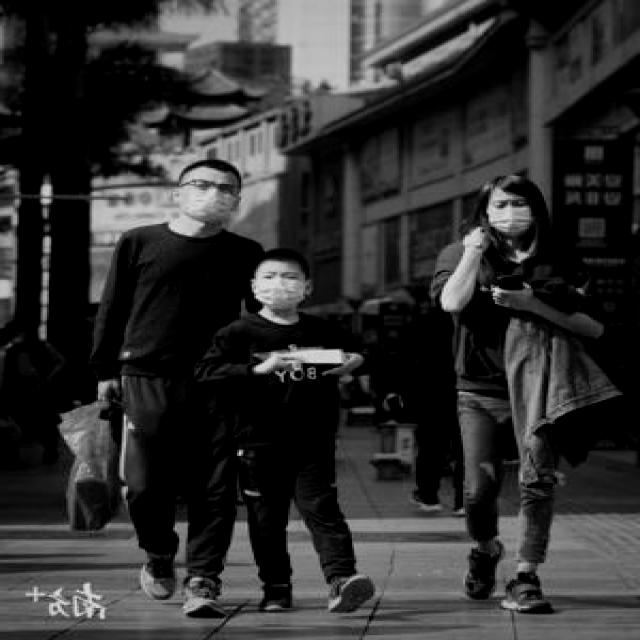face_mask: (179, 178, 241, 222), (254, 269, 307, 309), (488, 197, 538, 237)
hand_noglove: (320, 346, 367, 380), (87, 374, 128, 408), (492, 284, 534, 310), (460, 220, 494, 252), (261, 349, 302, 374)
head_nohelmet: (256, 242, 309, 268), (476, 170, 533, 192), (185, 156, 248, 174)
person: (395, 153, 606, 622), (73, 128, 273, 605), (207, 237, 369, 621)
shoes: (129, 525, 187, 598), (458, 537, 508, 604), (496, 567, 560, 617), (321, 570, 379, 616), (176, 574, 229, 616), (255, 576, 295, 614)
